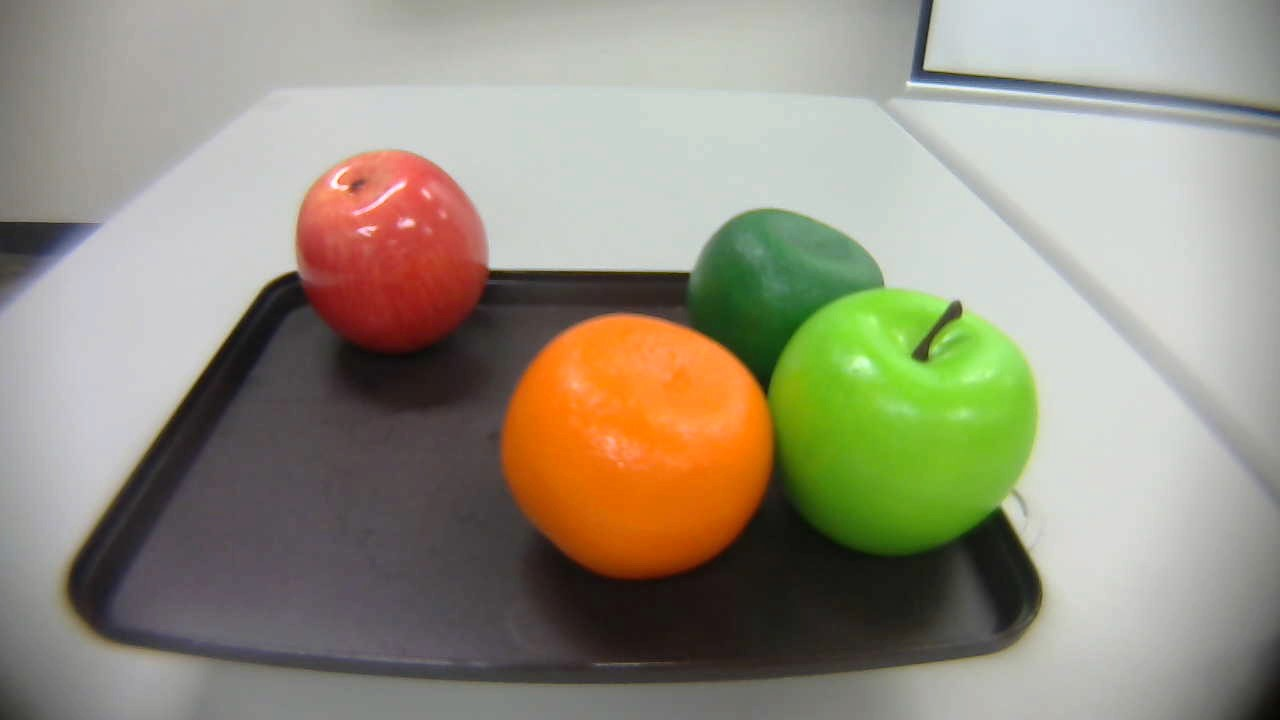green apple: (771, 283, 1040, 558)
green orange: (667, 196, 886, 375)
orange: (497, 306, 784, 577)
red apple: (299, 148, 497, 363)
